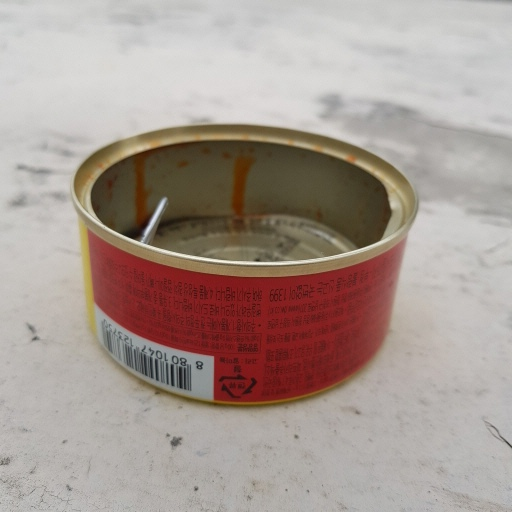Metal_1: (66, 126, 417, 413)
